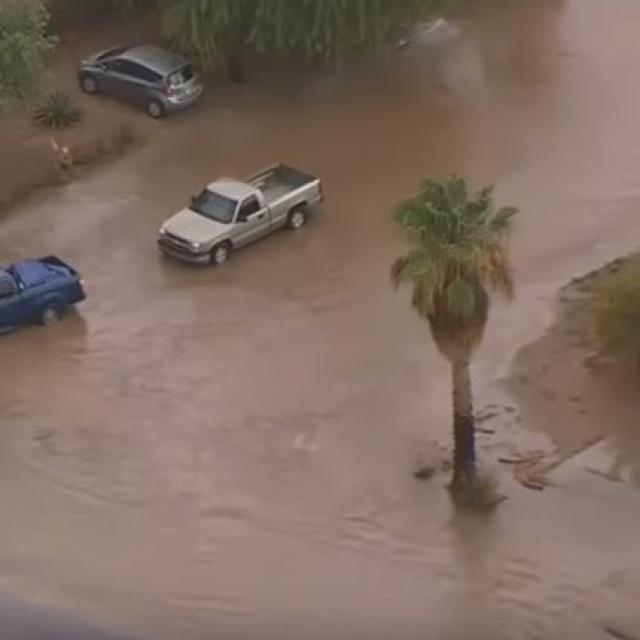flooded_areas: (0, 14, 576, 554)
